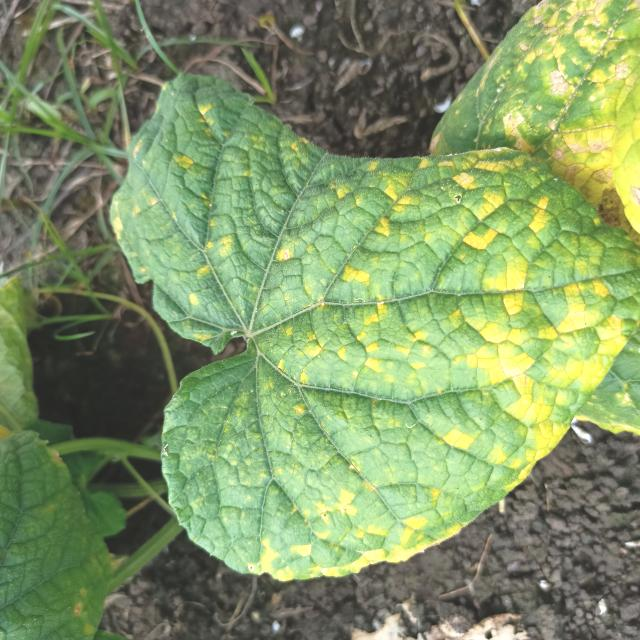disease_cucumber: (108, 96, 624, 564)
